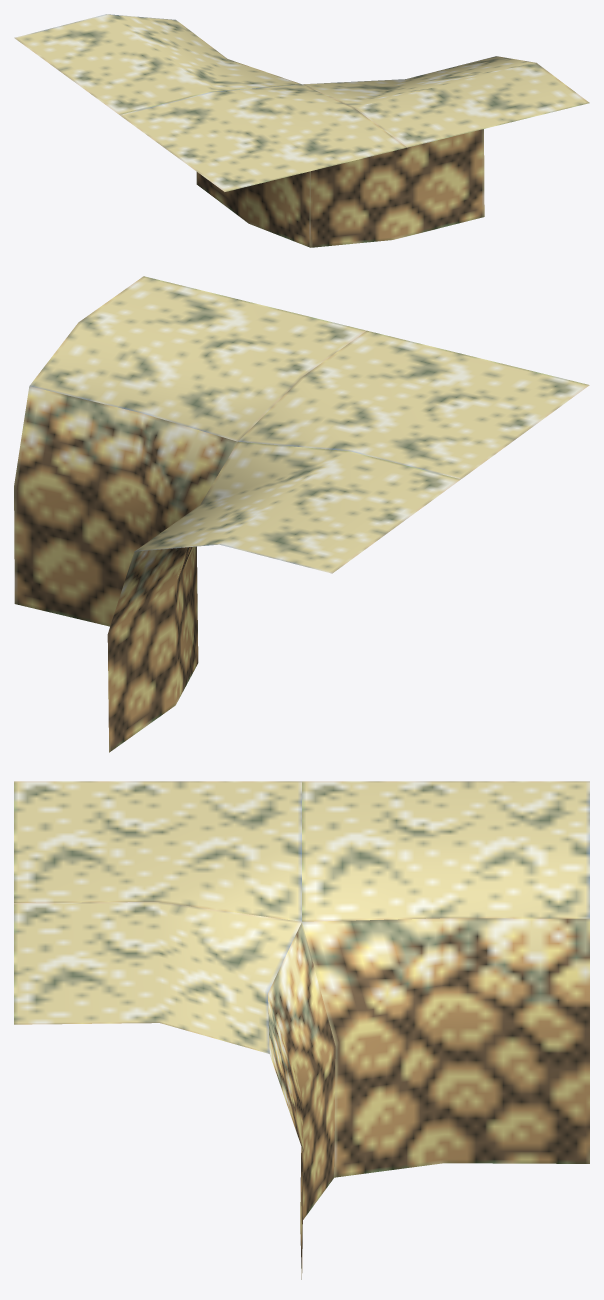
The model's file is sandDTile_innerCorner_lowerLeft.fbx.
3 views of the same model, one above another, from view 1: azimuth 30°, elevation 25°; view 2: azimuth 150°, elevation 25°; view 3: azimuth 270°, elevation 25° (orthographic). The views are drawn at different scales.
Visible parts, largest first — view 1: sandDTile_innerCorner_lowerLeft; view 2: sandDTile_innerCorner_lowerLeft; view 3: sandDTile_innerCorner_lowerLeft.
Boxes of the visible parts, x1,y1,x2,y2 form: sandDTile_innerCorner_lowerLeft: (14,14,589,247); sandDTile_innerCorner_lowerLeft: (14,276,589,752); sandDTile_innerCorner_lowerLeft: (14,781,589,1279).
Size of the model in its own units: 2 by 1.01 by 2.
